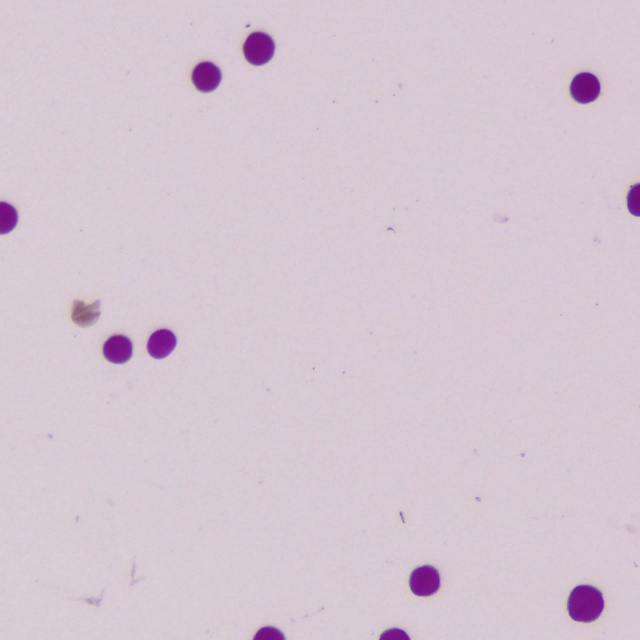viable: (568, 586, 603, 621), (244, 32, 274, 65), (410, 566, 439, 596), (571, 73, 600, 103), (148, 330, 176, 358), (193, 62, 220, 91), (104, 336, 132, 363), (1, 202, 17, 233), (254, 627, 284, 639), (628, 184, 639, 215), (380, 629, 409, 639)
